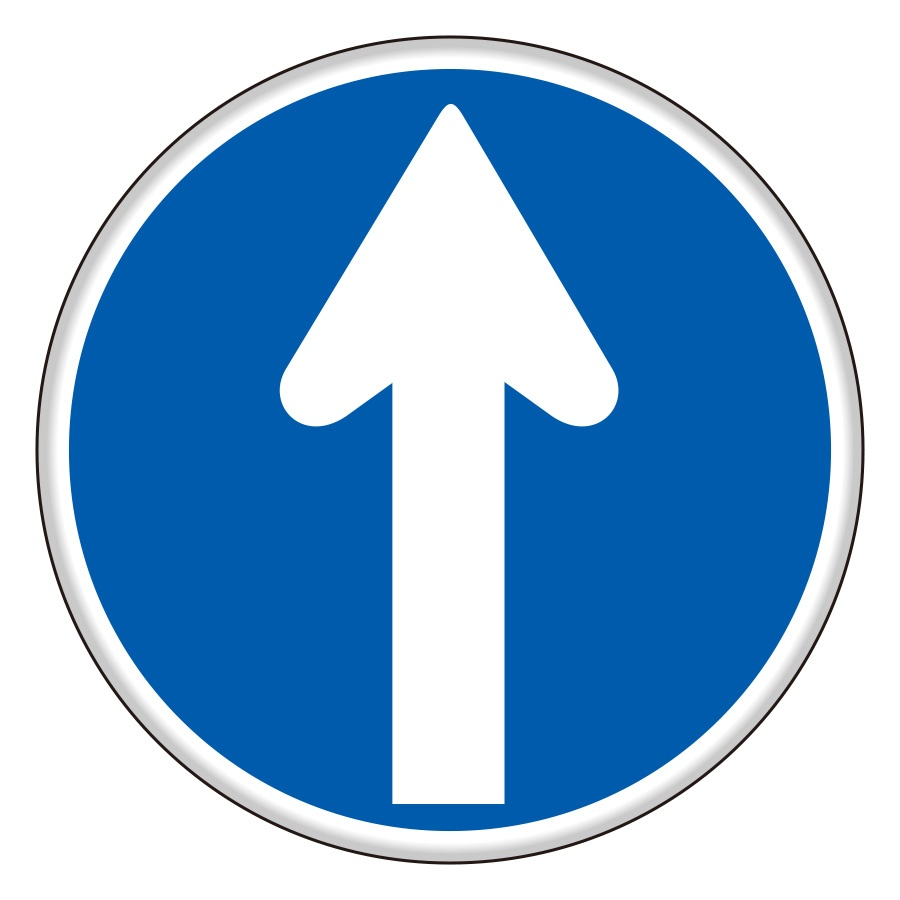Direction_sign: (9, 18, 878, 872)
